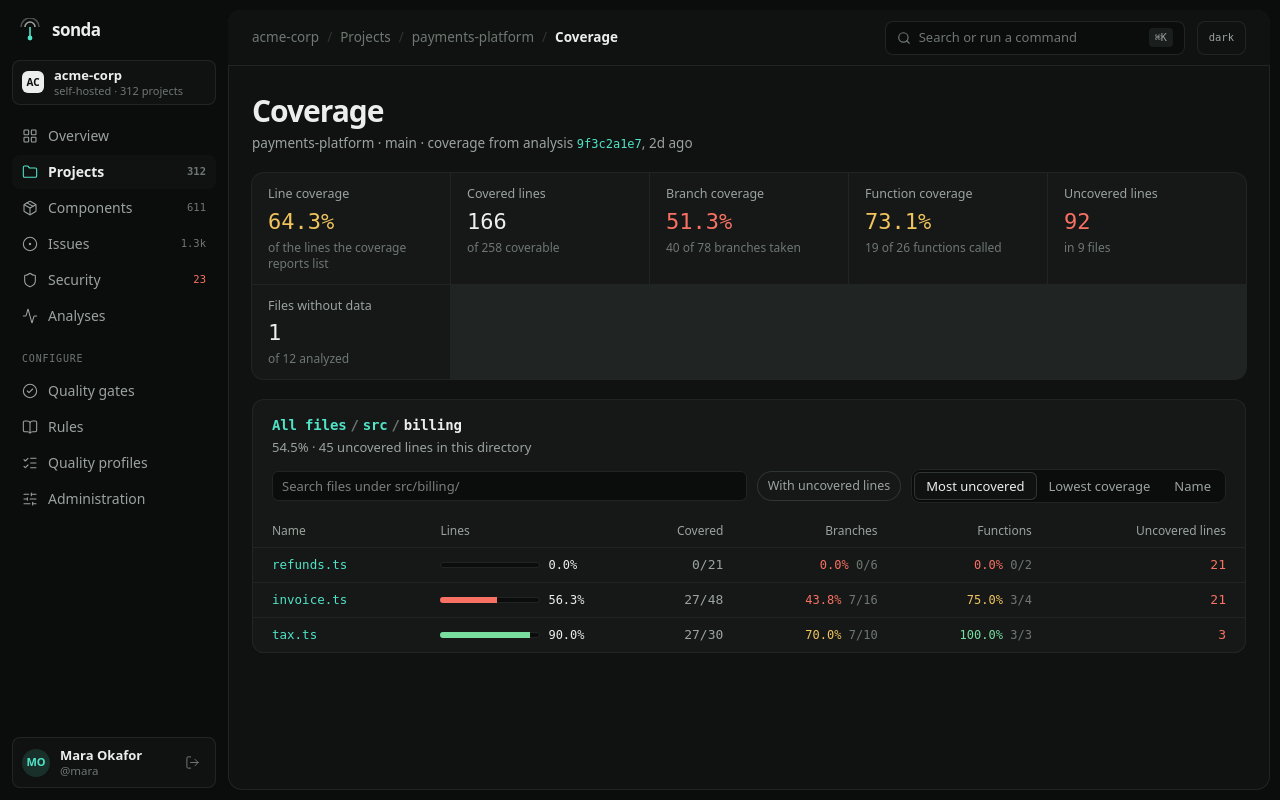
Coverage › shows branches and functions, in totals, per file and on the lines that miss them
The width and height of the screenshot is (1280, 800).
Expected: the text "Branch coverage" is shown, [666,185,764,202]
Expected: the text "Function coverage" is shown, [865,185,973,202]
Click the link "invoice.ts" at x=310, y=600, box [272,592,347,607]
(page scrolled)
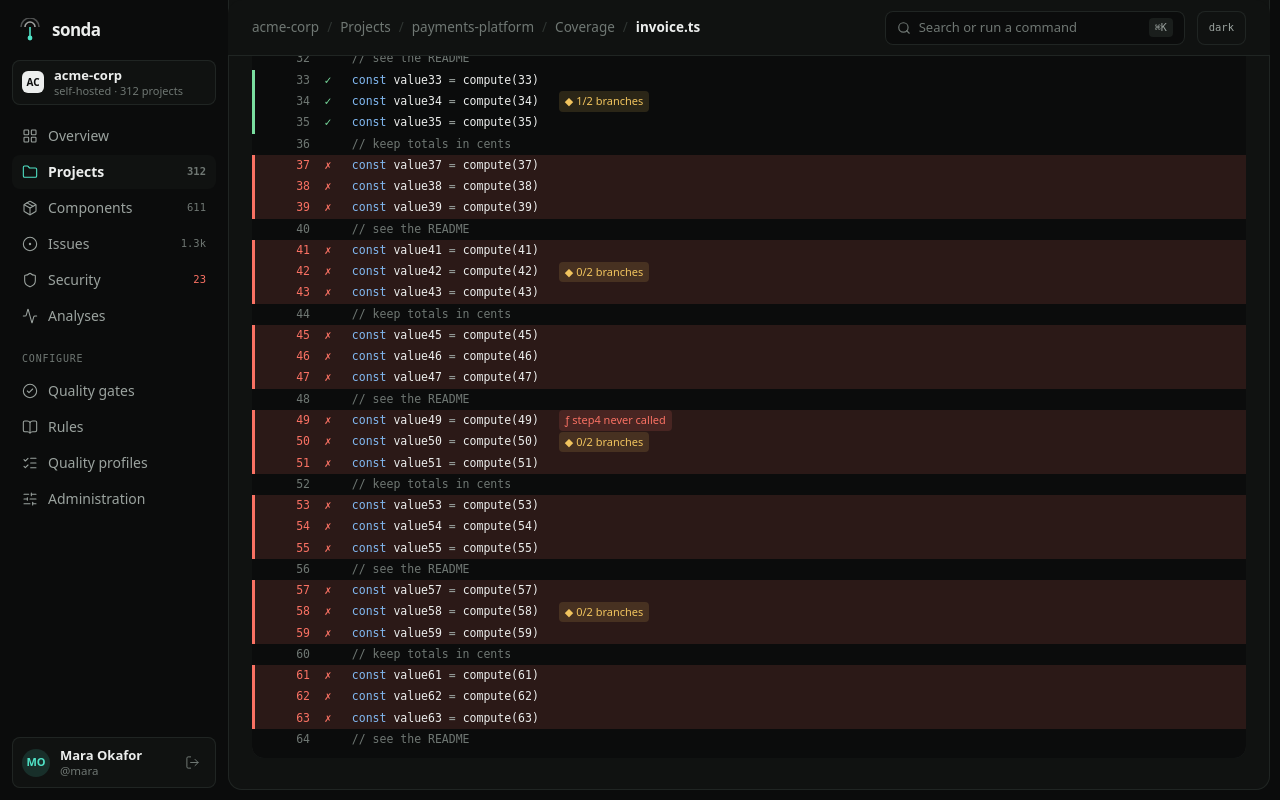
Now the text "ƒ step4 never called" is shown, box [559,410,672,431]
